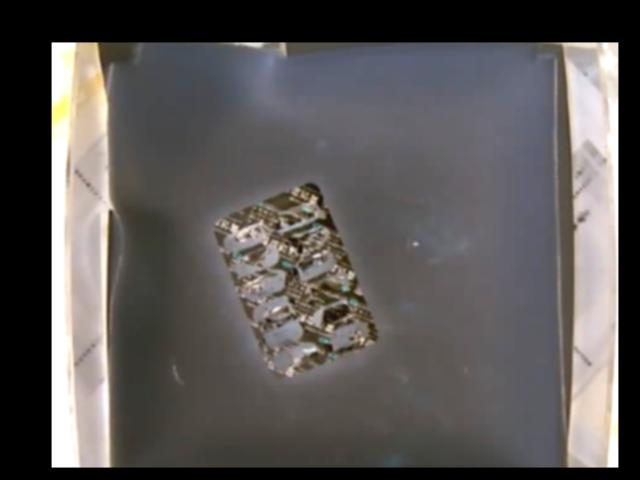Medicine: (214, 181, 379, 378)
